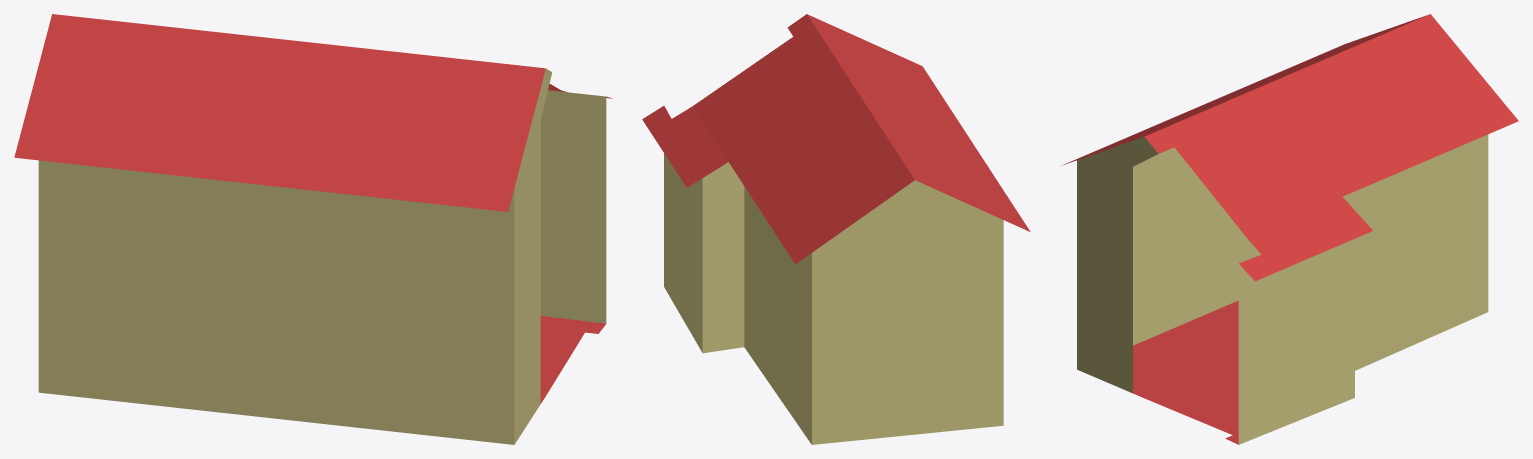
3 views of the same model, side by side, from view 1: azimuth 30°, elevation 25°; view 2: azimuth 150°, elevation 25°; view 3: azimuth 270°, elevation 25° (orthographic). The views are drawn at different scales.
Bounding box in the file's own units: 21.39 × 19.65 × 12.34.
